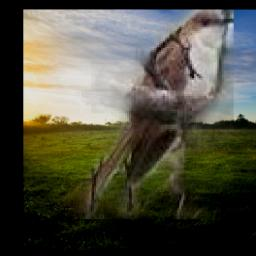Cuckoo: (65, 10, 234, 220)
